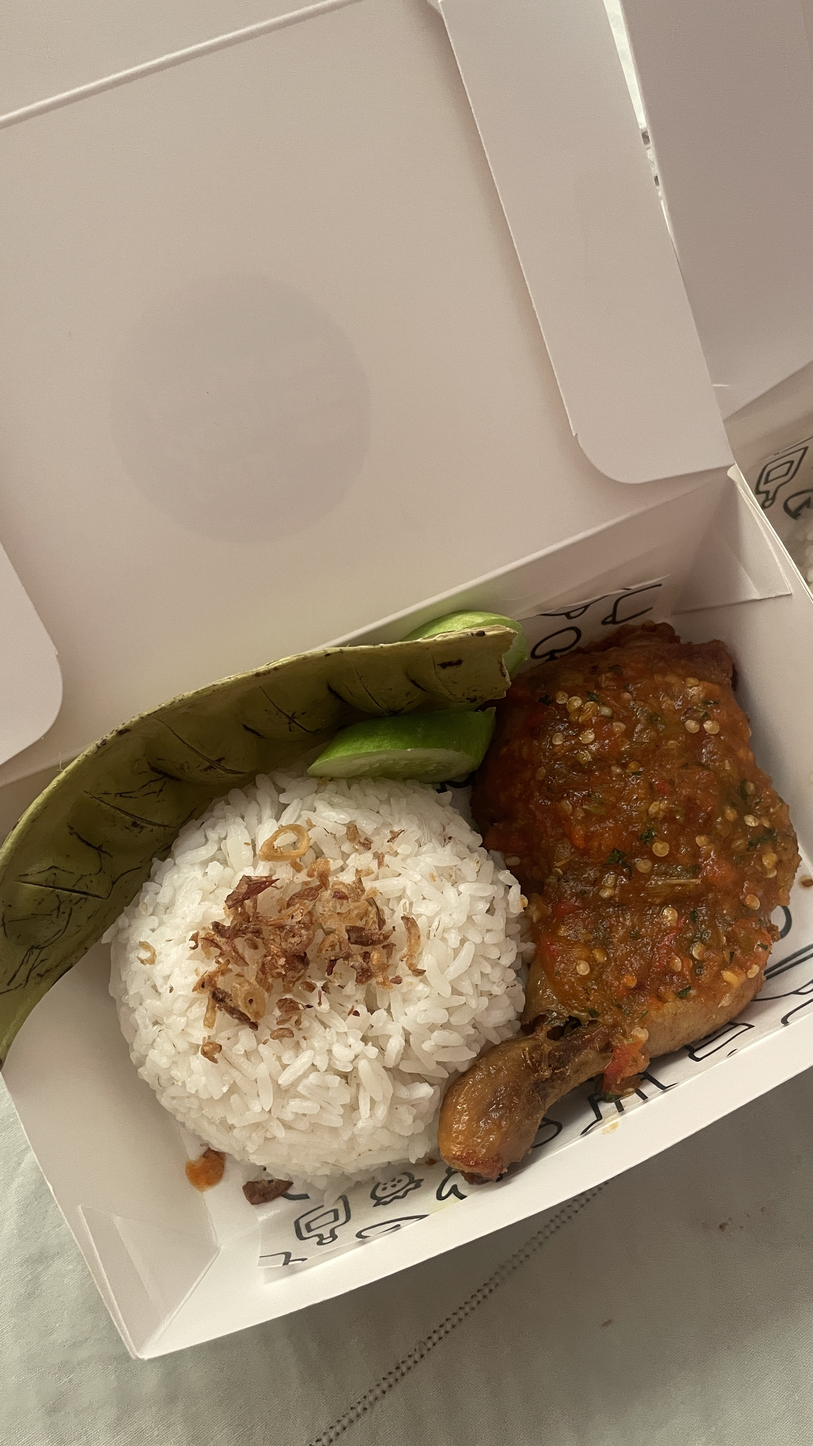daging: (520, 699, 813, 1069)
makanan_berpati: (138, 811, 495, 1183)
